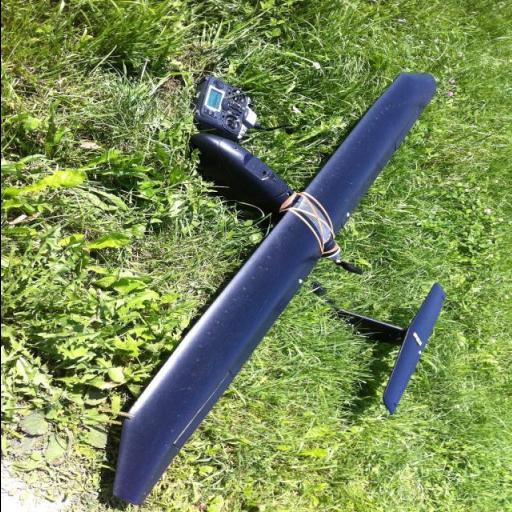uav: (105, 65, 445, 512)
